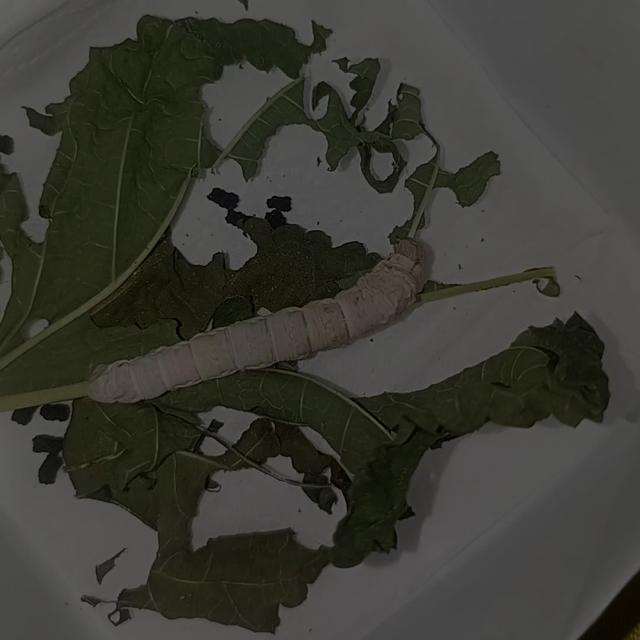Healthy: (33, 224, 475, 426)
